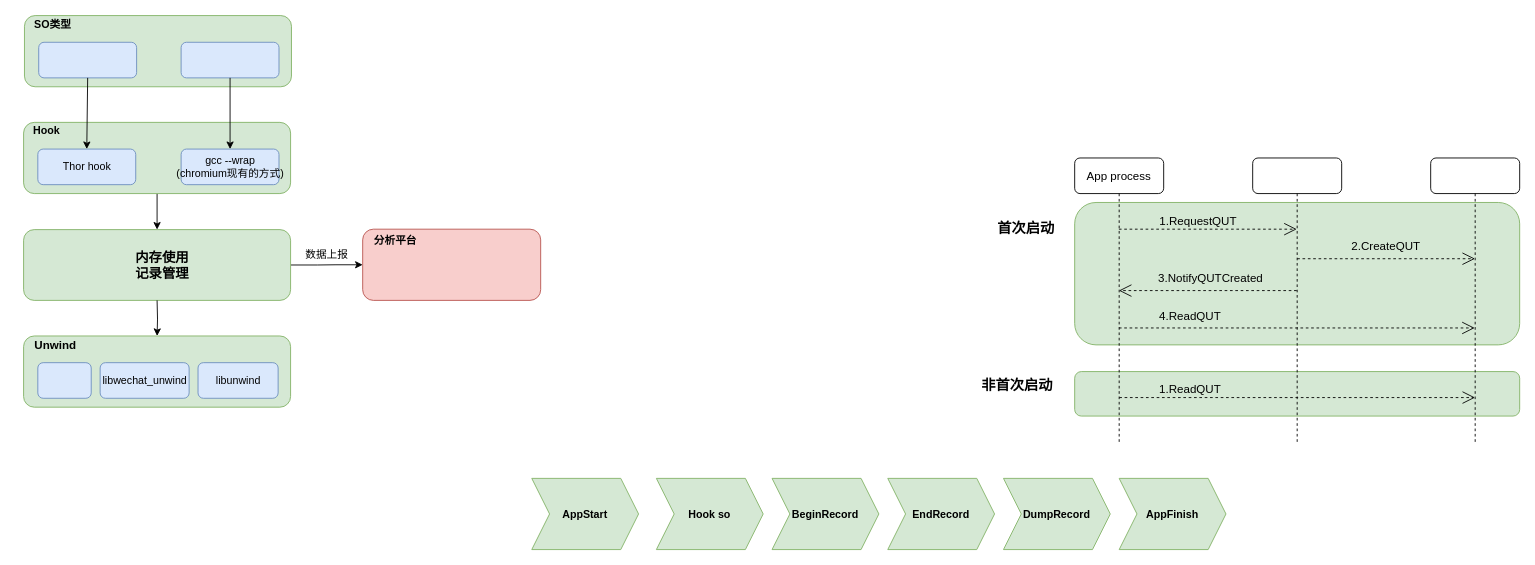
The diagram is 1535 pixels wide and 565 high, and some of its shapes have lost their labels. Here are the shapes that lost their labels. From the top down, the box of each, then its label:
(38, 41, 137, 78): commom so
(180, 41, 279, 78): chromium so
(362, 228, 541, 300): 分析、聚合、展示数据
(1252, 157, 1342, 443): QUTService
(1430, 157, 1520, 443): QUT
(37, 362, 91, 398): libudf
